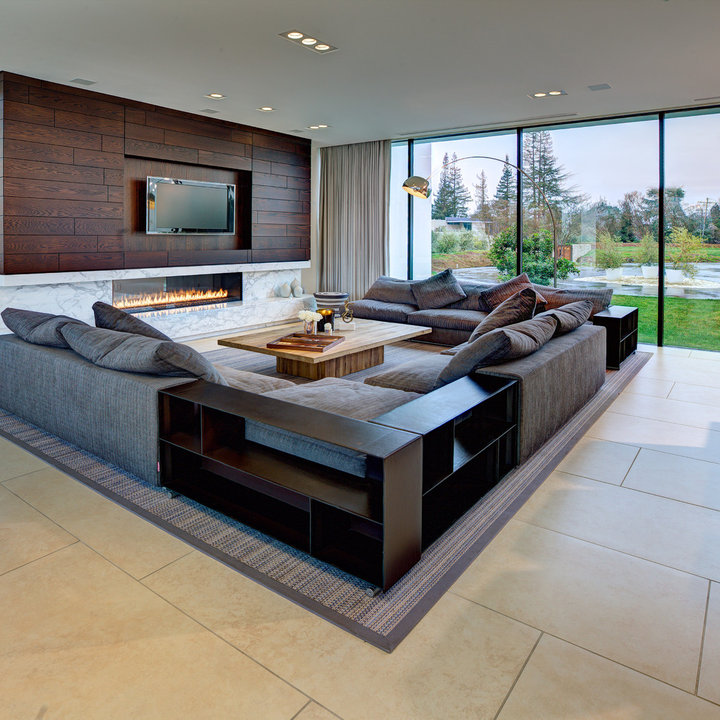TV: (140, 175, 240, 239)
floor lamp: (400, 149, 562, 286)
sofa: (0, 268, 642, 597)
table: (214, 308, 434, 382)
